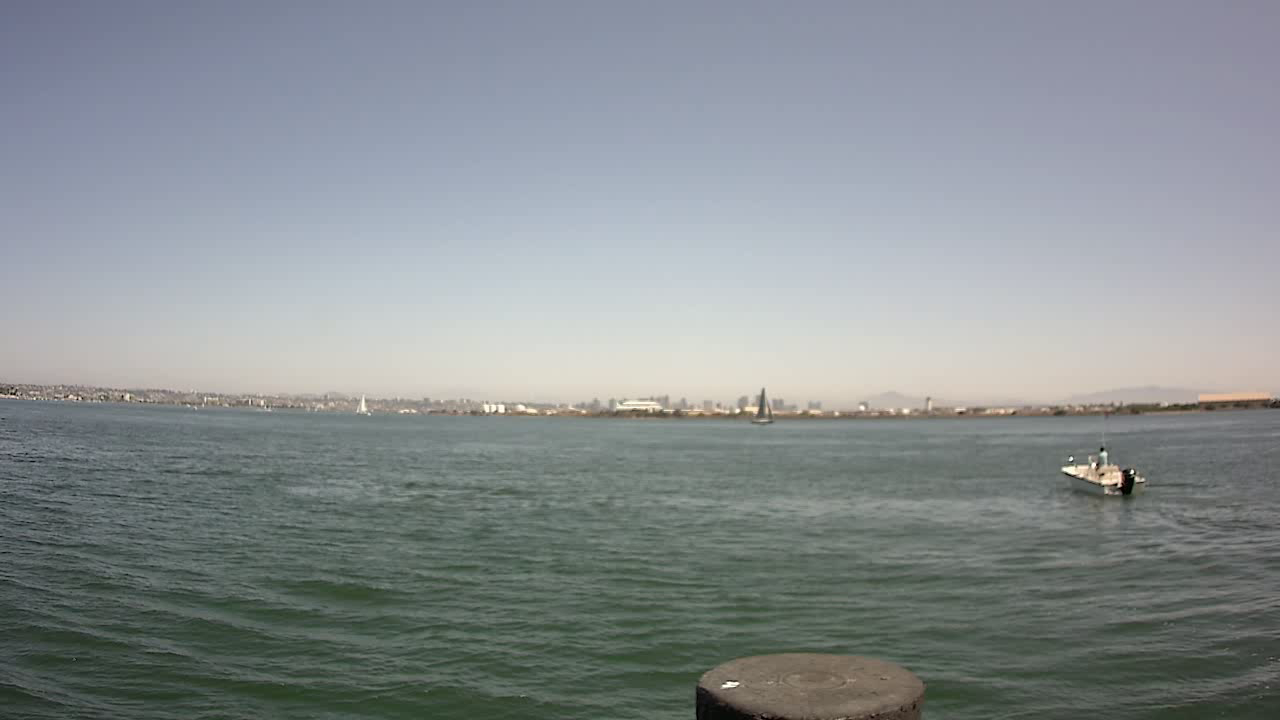target: (1061, 439, 1157, 503)
